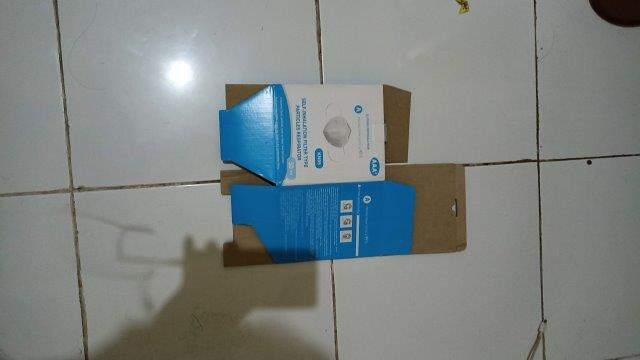kardus: (223, 84, 467, 249)
